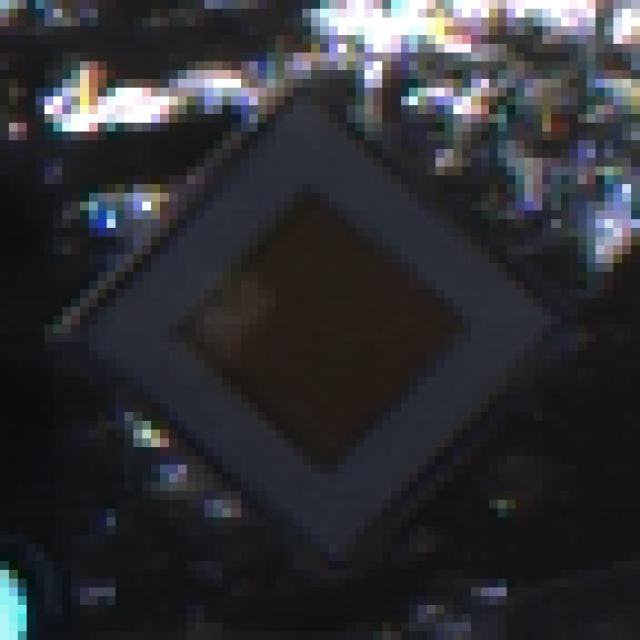Main Road: (54, 54, 588, 589)
